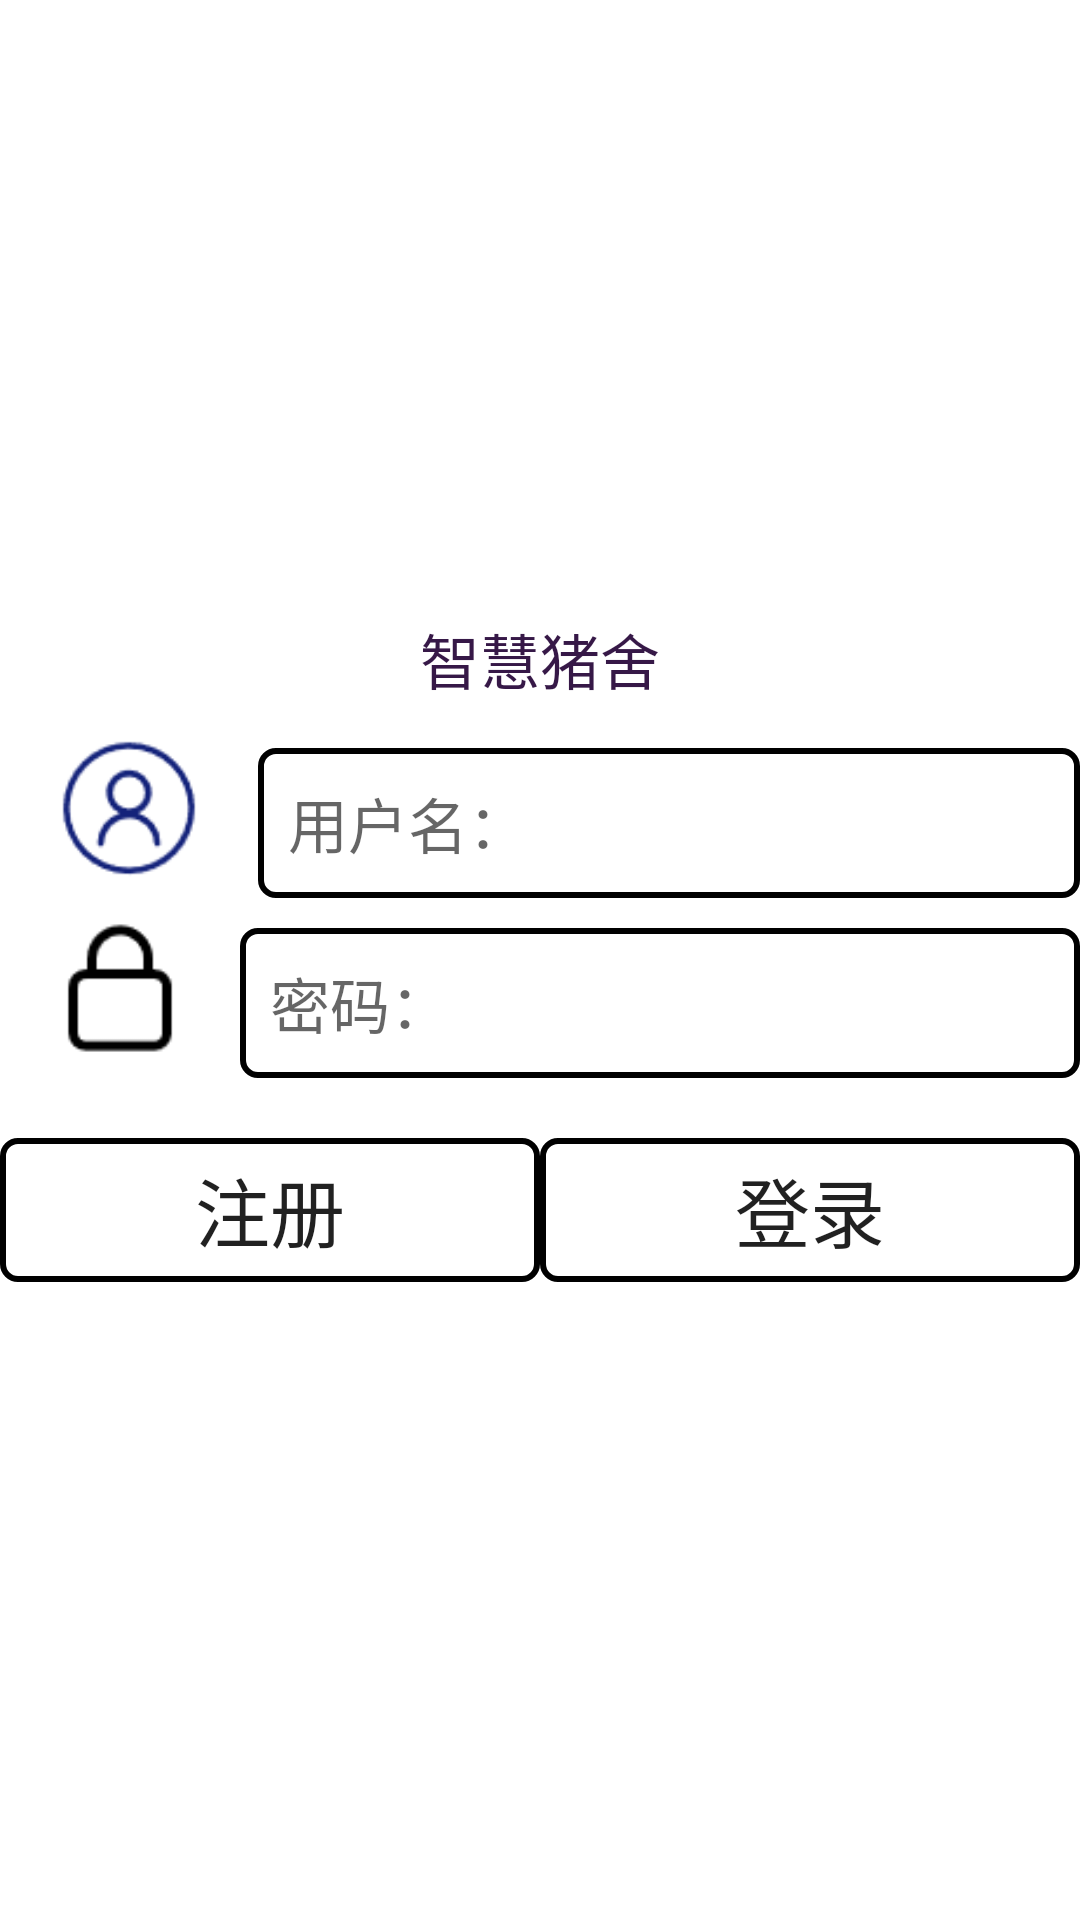

Where icons sit on this 1080*1920 app screen, as detection(x1, y1, x2, y2):
loginin: detection(62, 741, 196, 875)
password: detection(67, 924, 173, 1052)
